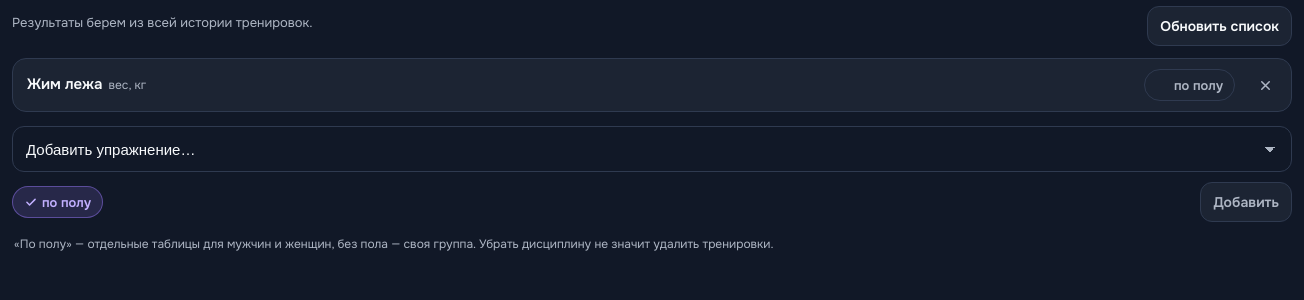
Test case: AdminDisciplines › добавить без разделения; сохранилось, но список не обновился — подсказка
The width and height of the screenshot is (1304, 300).
Select "планка" in the dropdown named "Упражнение" at (652, 149), box [12, 126, 1292, 172]
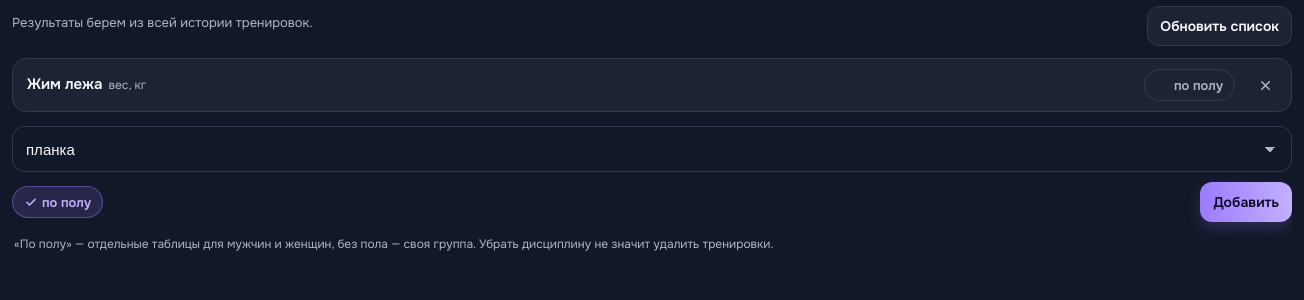
Click the 2nd checkbox labelled "по полу" at (58, 202), box [12, 186, 103, 218]
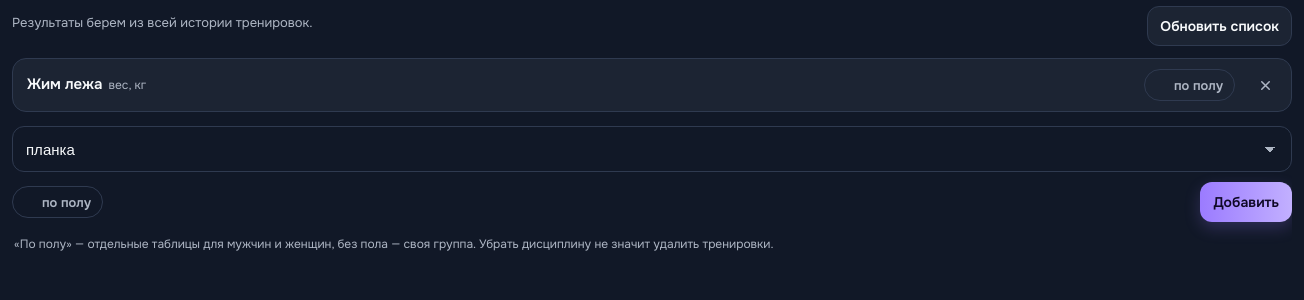
Click the button with aria-label "Добавить дисциплину" at (1246, 202), box [1200, 182, 1292, 222]
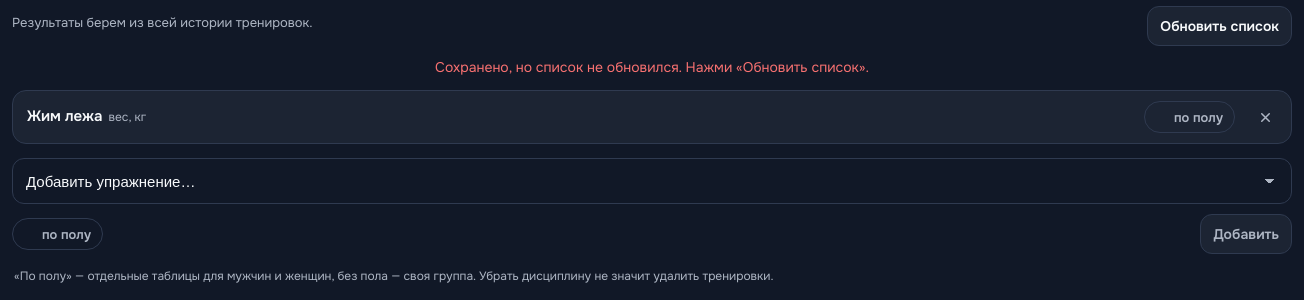
Expected: the message shows "Нажми «Обновить список»", [435, 58, 869, 76]
